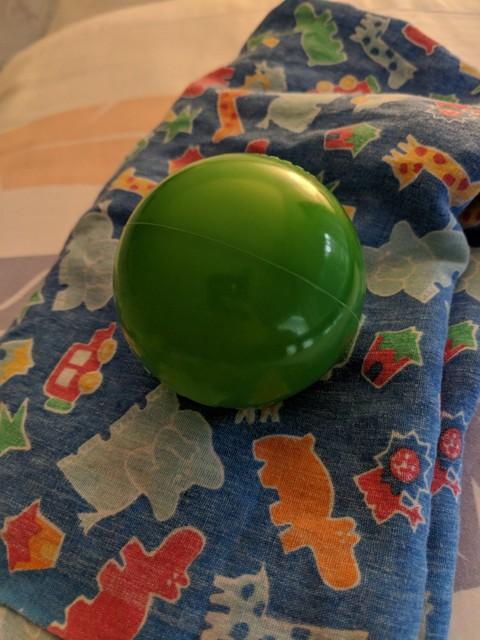ball: (117, 151, 369, 408)
